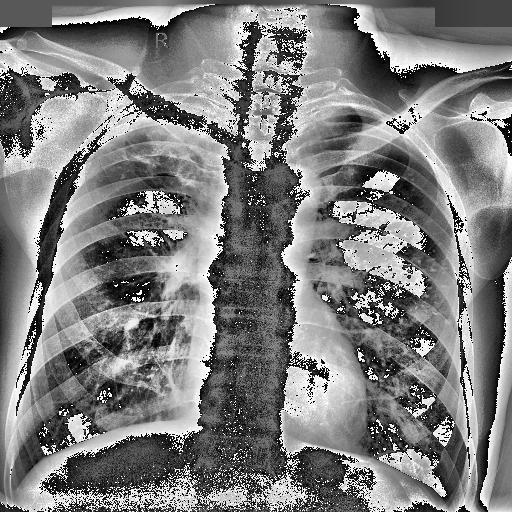0- Aortic enlargement: (259, 162, 322, 220)
11- Pleural thickening: (90, 86, 246, 144), (92, 99, 240, 152), (116, 87, 230, 131), (291, 104, 346, 132)
13- Pulmonary fibrosis: (78, 127, 230, 273), (104, 133, 212, 236), (374, 200, 460, 327), (380, 224, 456, 327), (96, 140, 196, 216), (150, 338, 192, 408)
7- Lung Opacity: (90, 86, 246, 144)
8- Nodule-Mass: (344, 217, 459, 329), (380, 224, 456, 327), (114, 362, 186, 418), (408, 170, 416, 183)
